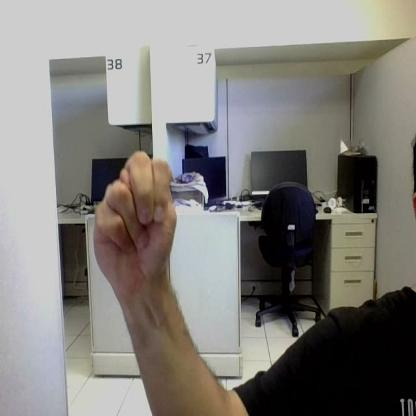N: (94, 152, 176, 298)
